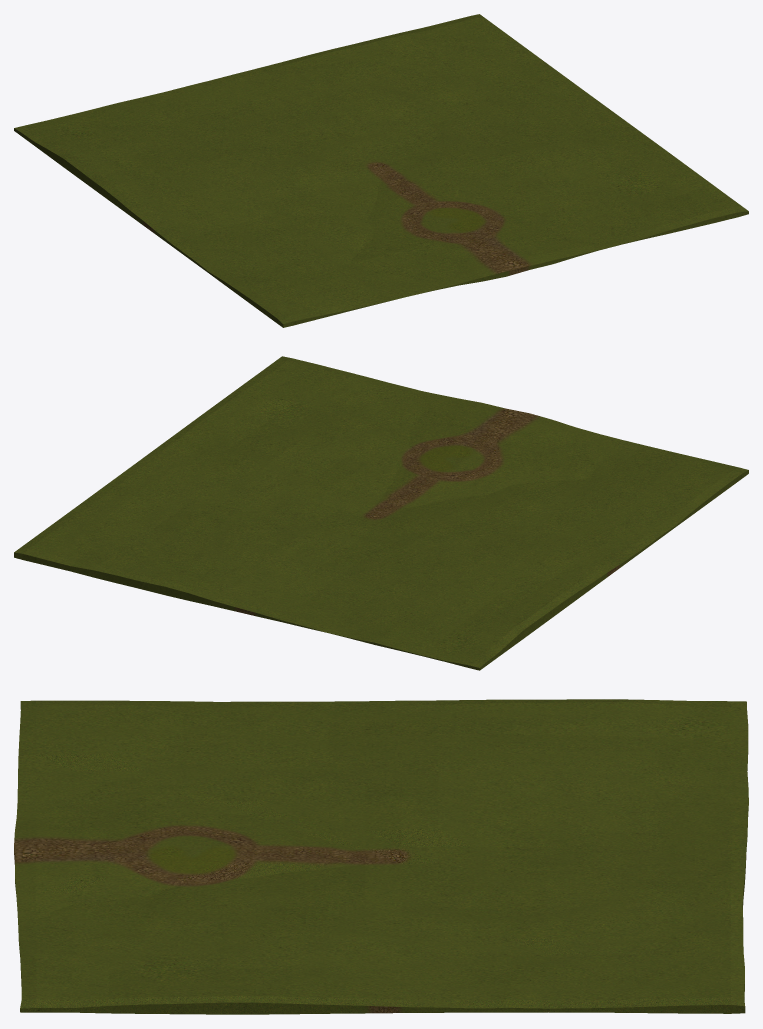
Rendered from FountainAreaGround.glb.
3 views of the same model, one above another, from view 1: azimuth 30°, elevation 25°; view 2: azimuth 150°, elevation 25°; view 3: azimuth 270°, elevation 25° (orthographic). The views are drawn at different scales.
Parts seen in each view (by area): view 1: Plane.20041; view 2: Plane.20041; view 3: Plane.20041.
Boxes of the visible parts, x1,y1,x2,y2 form: Plane.20041: (14, 14, 748, 327); Plane.20041: (14, 356, 748, 670); Plane.20041: (14, 699, 748, 1014).
Size of the model in its own units: 29.87 by 0.8251 by 30.16.
1 material, 1 textured.
